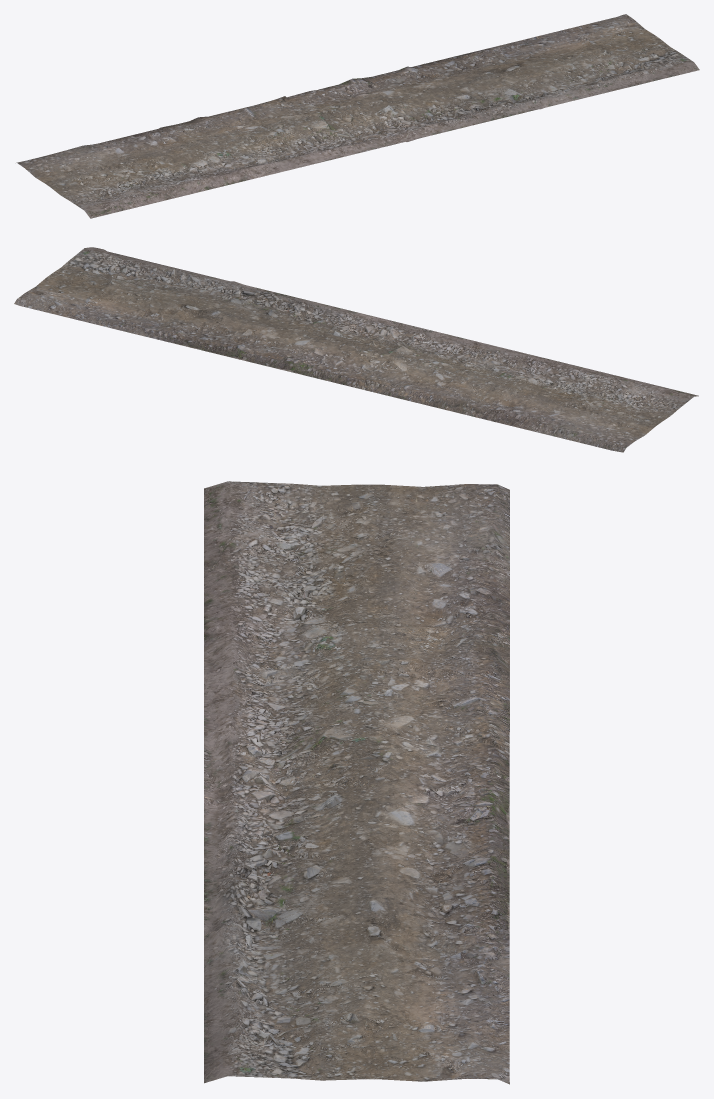
Rendered from SM_PathRocky_01_02_low.fbx.
3 renders of one model, top to bottom at view 1: azimuth 30°, elevation 25°; view 2: azimuth 150°, elevation 25°; view 3: azimuth 270°, elevation 25°, orthographic. The views are drawn at different scales.
Parts seen in each view (by area): view 1: sm_PathRocky_01_02_low_LOD0; view 2: sm_PathRocky_01_02_low_LOD0; view 3: sm_PathRocky_01_02_low_LOD0.
Boxes of the visible parts, <box> form: sm_PathRocky_01_02_low_LOD0: <box>16,14,699,218</box>; sm_PathRocky_01_02_low_LOD0: <box>14,247,698,452</box>; sm_PathRocky_01_02_low_LOD0: <box>204,481,509,1084</box>.
Size of the model in its own units: 545 by 2503 by 43.75.
